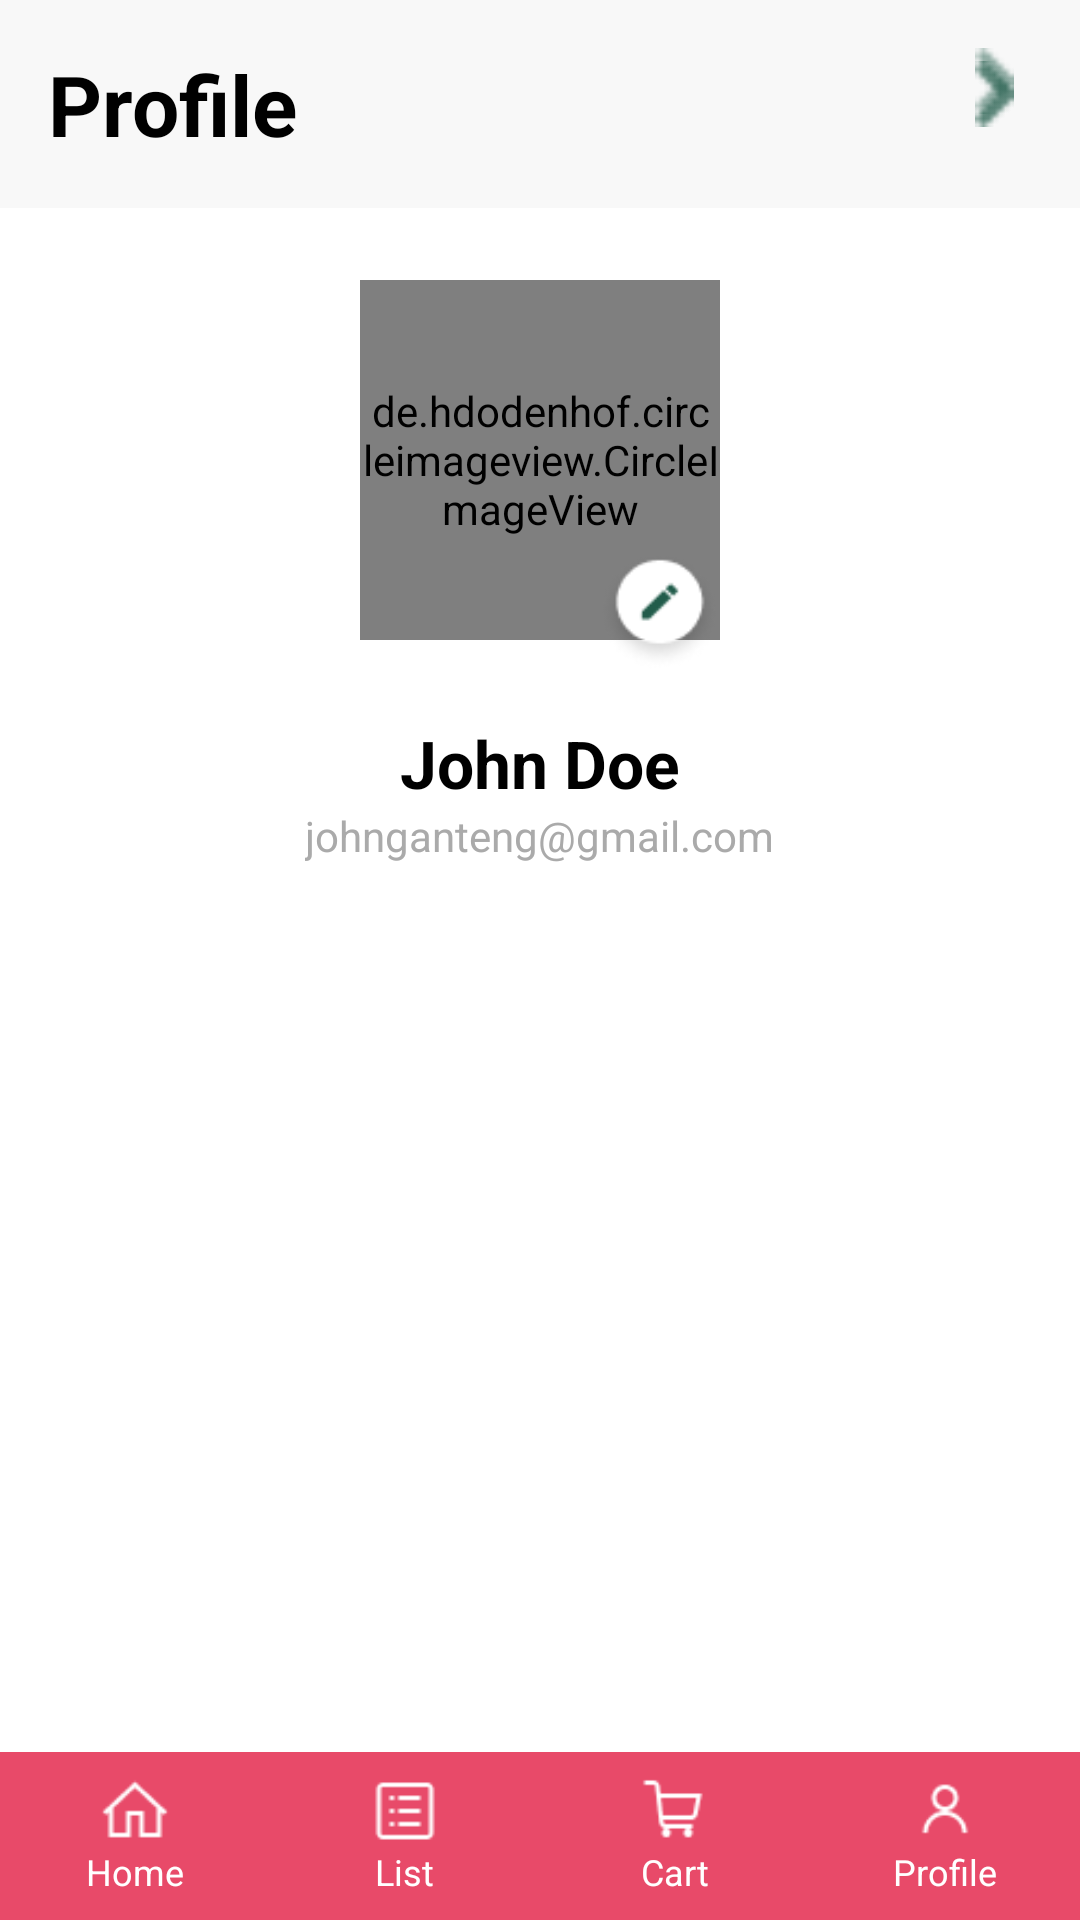

Point at icon controls on the screen. Image size 1080 × 1920, points as [x,y].
Edit Profile: [660,611]
